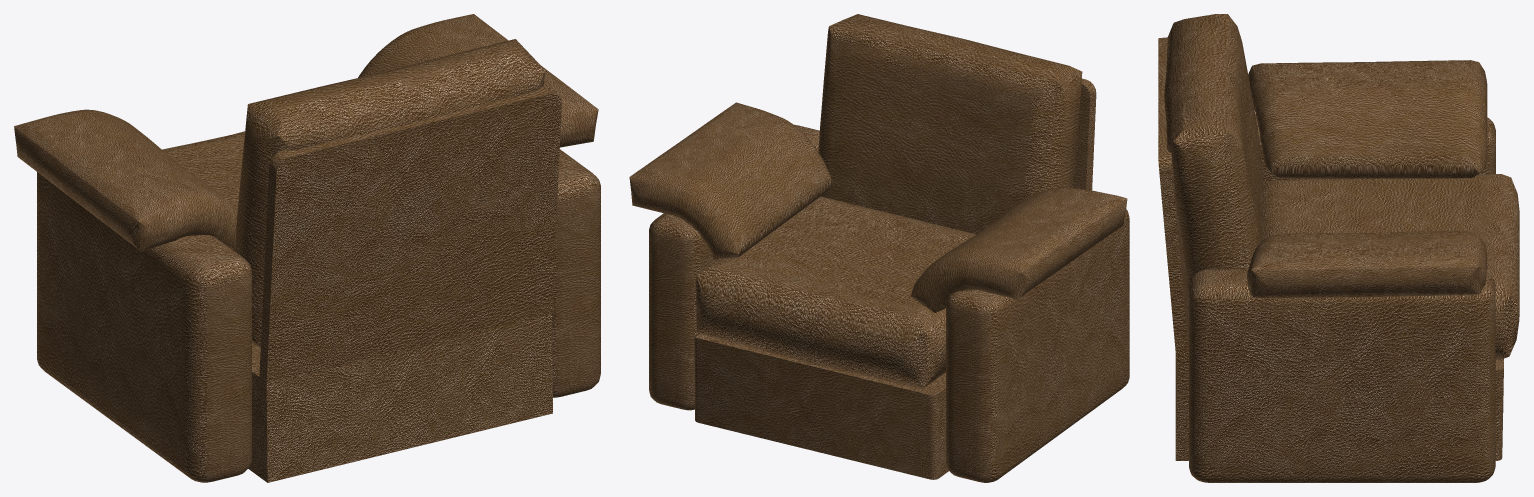
File: SingleSofa.obj
3 renders of one model, left to right at view 1: azimuth 30°, elevation 25°; view 2: azimuth 150°, elevation 25°; view 3: azimuth 270°, elevation 25°, orthographic. The views are drawn at different scales.
Visible parts, largest first — view 1: Component_1_001, Group_10_001, Group_1_001, Group_2_003, Group_10_002, Group_2_001, Group_3_001; view 2: Group_1_001, Group_3_001, Group_10_001, Component_1_001, Group_2_001, Group_2_003, Group_10_002; view 3: Group_10_002, Group_2_003, Group_1_001, Group_3_001, Group_2_001, Component_1_001, Group_10_001.
Part boxes in pixels (box(x1,y1,x2,y2)): Component_1_001: box(248, 87, 561, 482); Group_10_001: box(37, 172, 251, 482); Group_1_001: box(235, 39, 545, 348); Group_2_003: box(14, 109, 237, 251); Group_10_002: box(552, 149, 600, 397); Group_2_001: box(358, 14, 598, 147); Group_3_001: box(162, 131, 244, 208); Group_1_001: box(818, 14, 1082, 234); Group_3_001: box(695, 196, 976, 389); Group_10_001: box(946, 209, 1129, 482); Component_1_001: box(694, 78, 1096, 479); Group_2_001: box(629, 102, 833, 259); Group_2_003: box(911, 187, 1127, 312); Group_10_002: box(649, 124, 819, 410); Group_10_002: box(1189, 269, 1495, 482); Group_2_003: box(1248, 60, 1487, 178); Group_1_001: box(1164, 14, 1263, 322); Group_3_001: box(1262, 174, 1519, 360); Group_2_001: box(1247, 230, 1487, 298); Component_1_001: box(1158, 37, 1503, 460); Group_10_001: box(1255, 114, 1495, 183).
Size of the model in its own units: 66.39 by 48.98 by 48.89.
